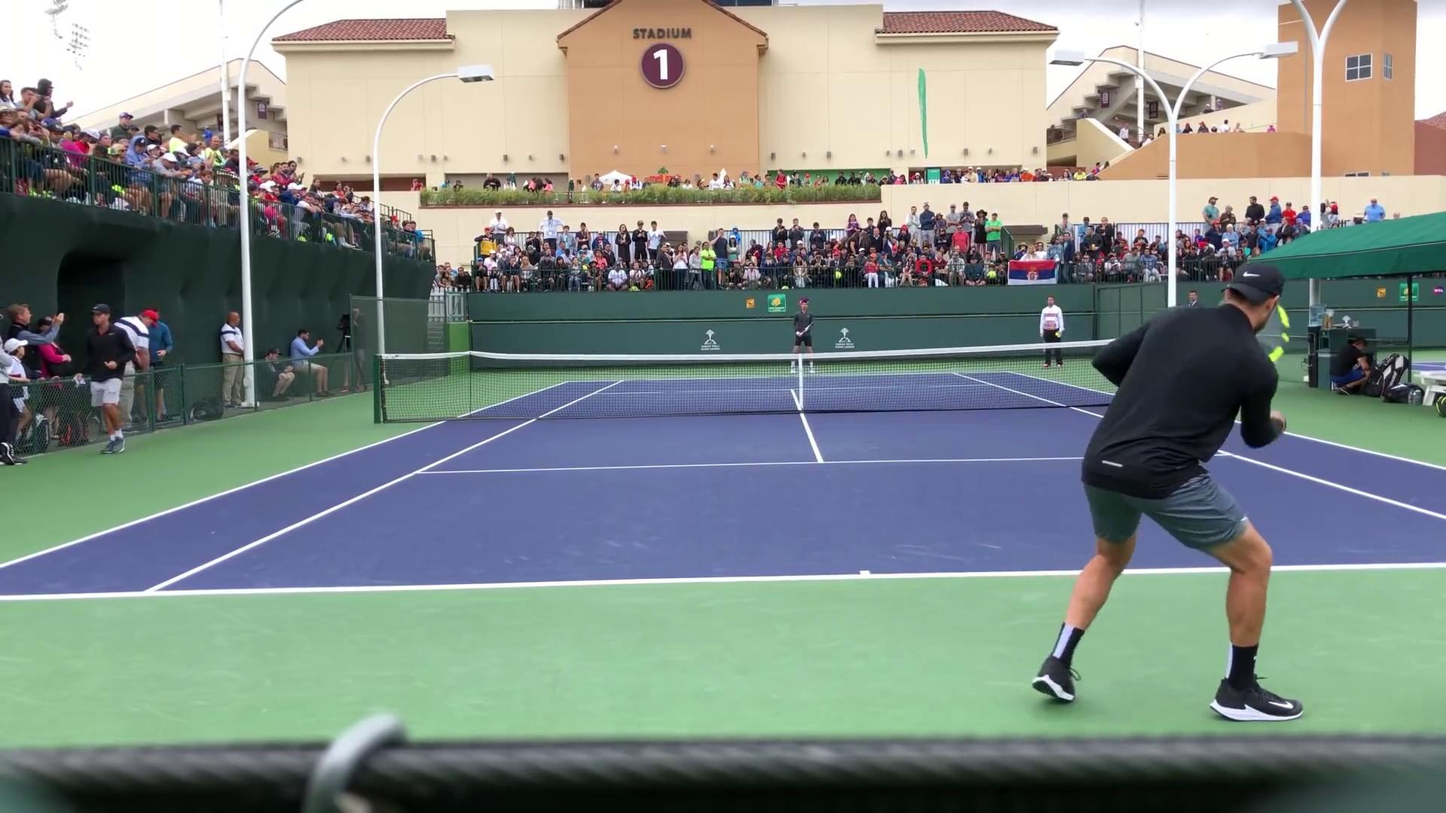ball: (918, 110, 922, 114)
